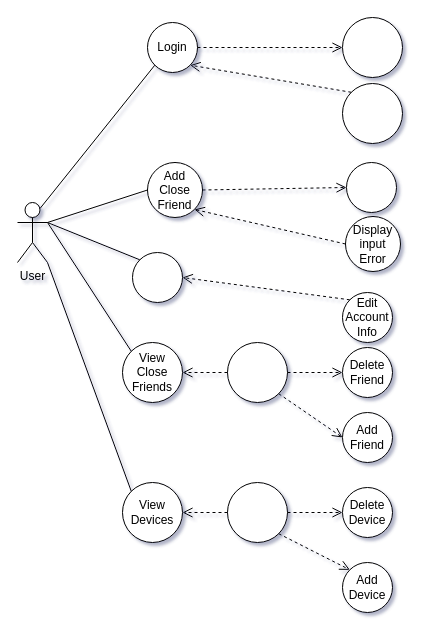
The diagram is 426 pixels wide and 636 high, and some of its shapes have lost their labels. Here are the shapes that lost their labels. From the top down, the centre of each, then its label:
At (x=372, y=47): "Verify Password".
At (x=372, y=113): "Display Login Error".
At (x=371, y=187): "Verify Input Data".
At (x=157, y=277): "View Account Info".
At (x=257, y=372): "Edit Friends List".
At (x=257, y=512): "Edit Devices List".
